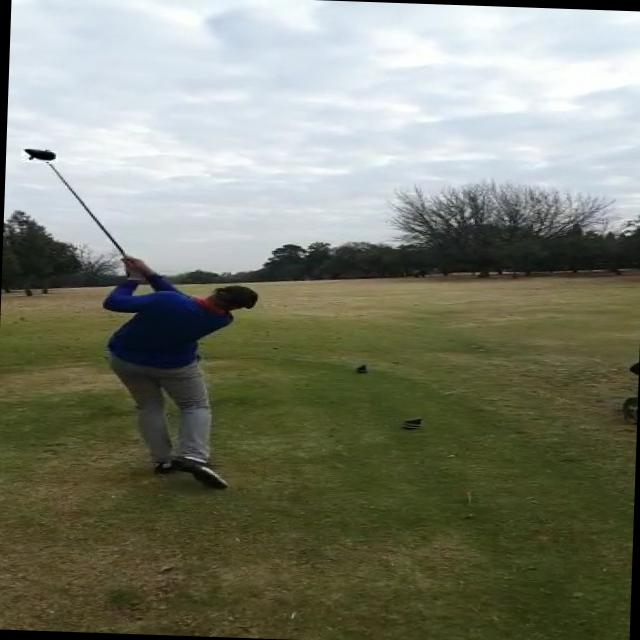club head: (21, 148, 58, 162)
